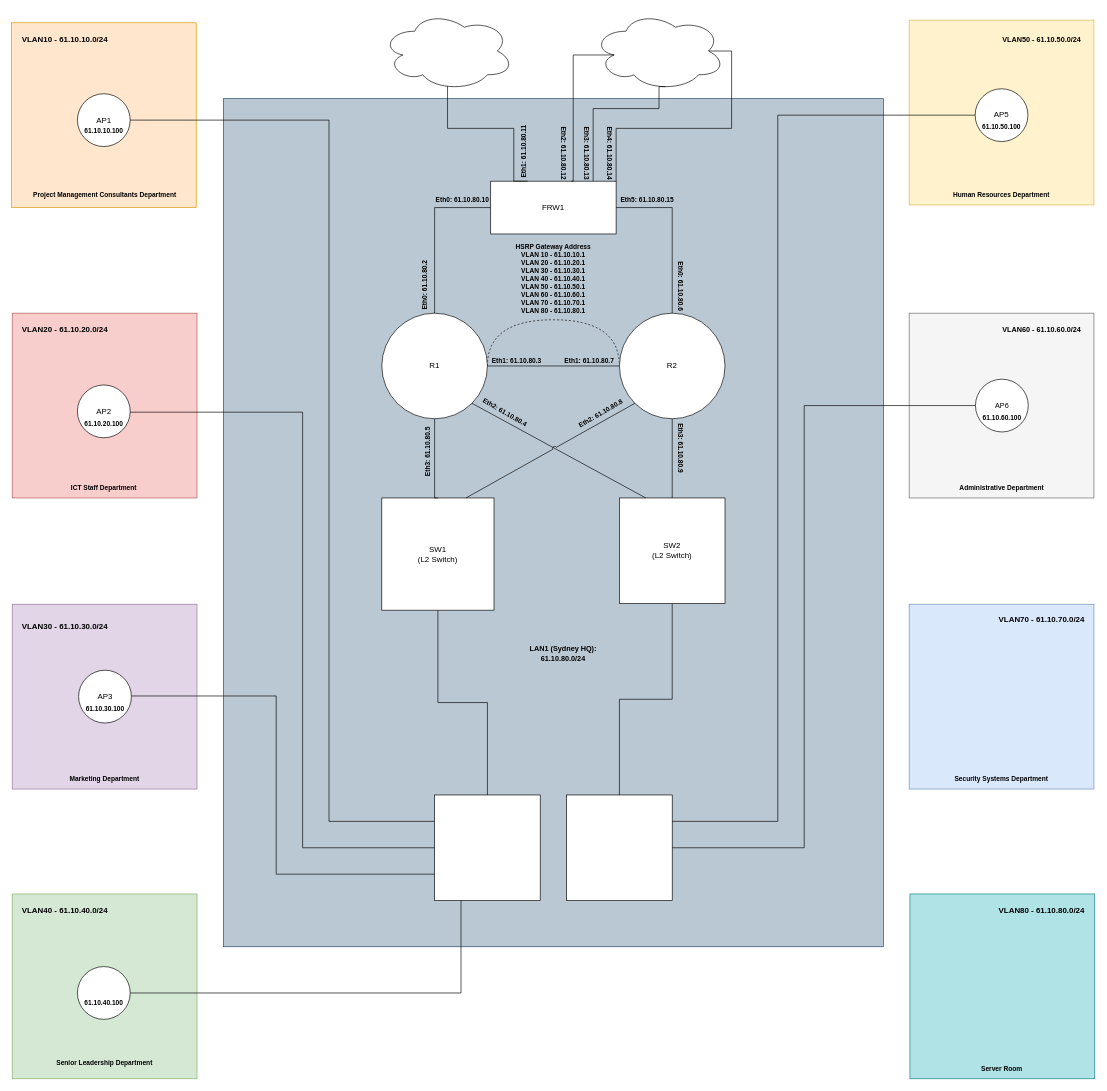
The diagram is 1107 pixels wide and 1091 high, and some of its shapes have lost their labels. Each missing label, with the box of its shape:
AP4: (77, 966, 130, 1019)
ISP: (381, 11, 514, 91)
SW3 (L2 PoE Switch): (434, 794, 540, 901)
SW4 (L2 PoE Switch): (566, 794, 672, 901)
WAN: (592, 11, 725, 91)
